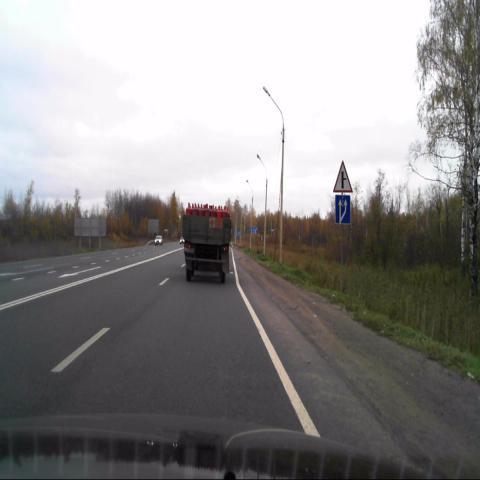2_3_2: (333, 160, 353, 193)
